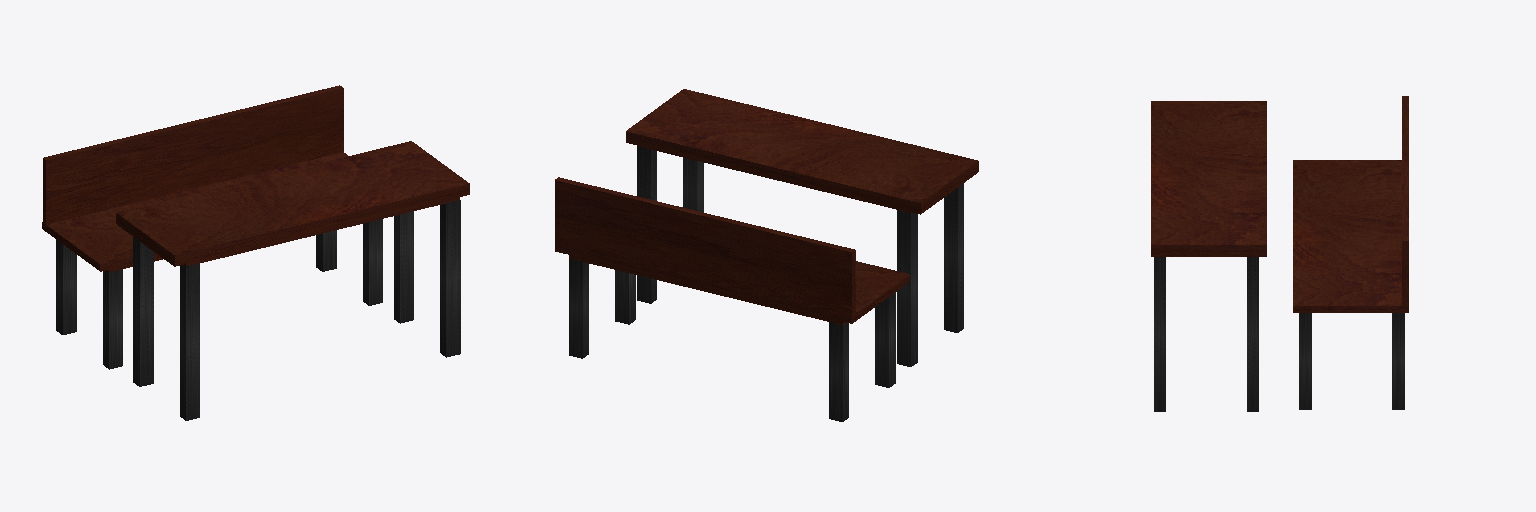
The picture shows the model from 3 angles: view 1: azimuth 30°, elevation 25°; view 2: azimuth 150°, elevation 25°; view 3: azimuth 270°, elevation 25°; orthographic projection.
Visible parts, largest first — view 1: benchtop_Cube.022, tabletop_Cube.015, tableleg_Cube.001, benchleg_Cube.031; view 2: benchtop_Cube.022, tabletop_Cube.015, tableleg_Cube.001, benchleg_Cube.031; view 3: benchtop_Cube.022, tabletop_Cube.015, tableleg_Cube.001, benchleg_Cube.031.
Part boxes in pixels (left/top/right/bottom): benchtop_Cube.022: left=42, top=85, right=347, bottom=272; tabletop_Cube.015: left=116, top=141, right=469, bottom=266; tableleg_Cube.001: left=133, top=200, right=460, bottom=420; benchleg_Cube.031: left=56, top=219, right=382, bottom=369; benchtop_Cube.022: left=555, top=177, right=909, bottom=324; tabletop_Cube.015: left=626, top=89, right=978, bottom=214; tableleg_Cube.001: left=637, top=146, right=963, bottom=366; benchleg_Cube.031: left=569, top=259, right=895, bottom=421; benchtop_Cube.022: left=1293, top=96, right=1408, bottom=312; tabletop_Cube.015: left=1151, top=101, right=1266, bottom=256; tableleg_Cube.001: left=1154, top=257, right=1258, bottom=411; benchleg_Cube.031: left=1299, top=313, right=1404, bottom=409.
Bounding box in the file's own units: 10.9 × 6.09 × 8.2.
2 materials, 1 textured.